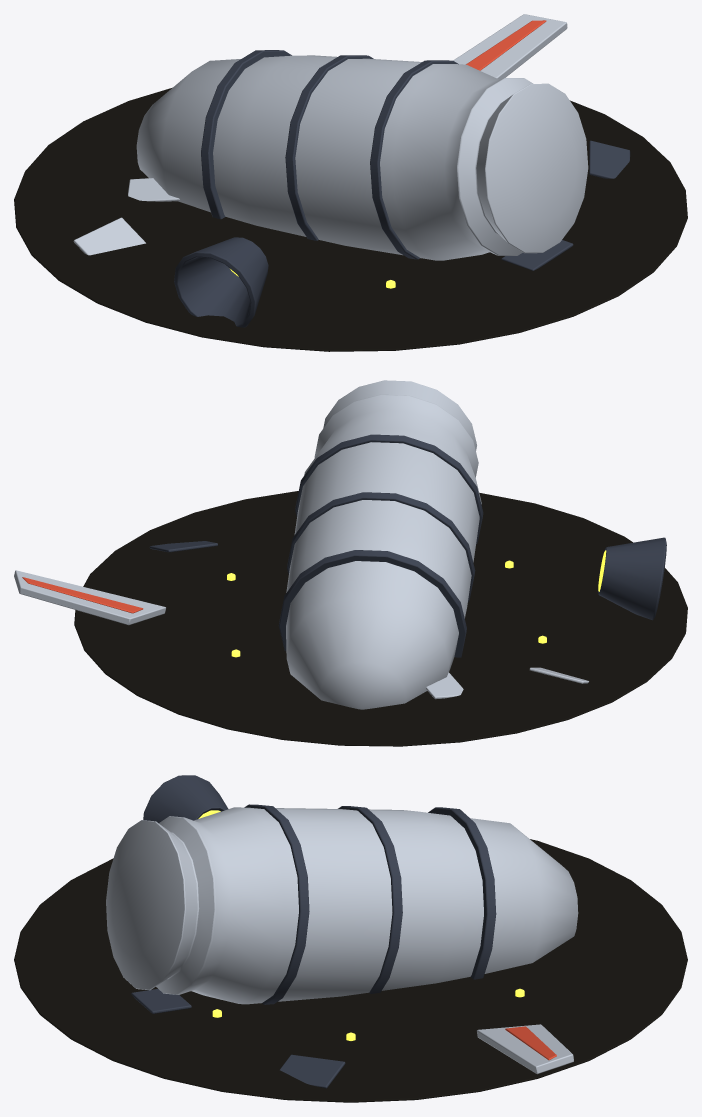
The model's file is wrack_raumschiff.fbx.
3 views of the same model, one above another, from view 1: azimuth 30°, elevation 25°; view 2: azimuth 150°, elevation 25°; view 3: azimuth 270°, elevation 25° (orthographic). The views are drawn at different scales.
Parts seen in each view (by area): view 1: wrack_raumschiff_Koerper; view 2: wrack_raumschiff_Koerper; view 3: wrack_raumschiff_Koerper.
Part boxes in pixels (<box>): wrack_raumschiff_Koerper: <box>14,14,687,351</box>; wrack_raumschiff_Koerper: <box>14,380,687,746</box>; wrack_raumschiff_Koerper: <box>14,775,687,1102</box>.
Bounding box in the file's own units: 6.59 × 2.5 × 6.4.
